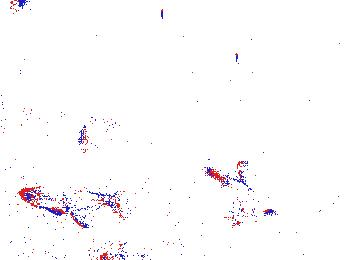X-ray fish: (65, 158, 119, 193)
red belly glassfish: (97, 248, 148, 260)
redtail glassfish: (18, 184, 129, 216), (214, 169, 267, 225)
